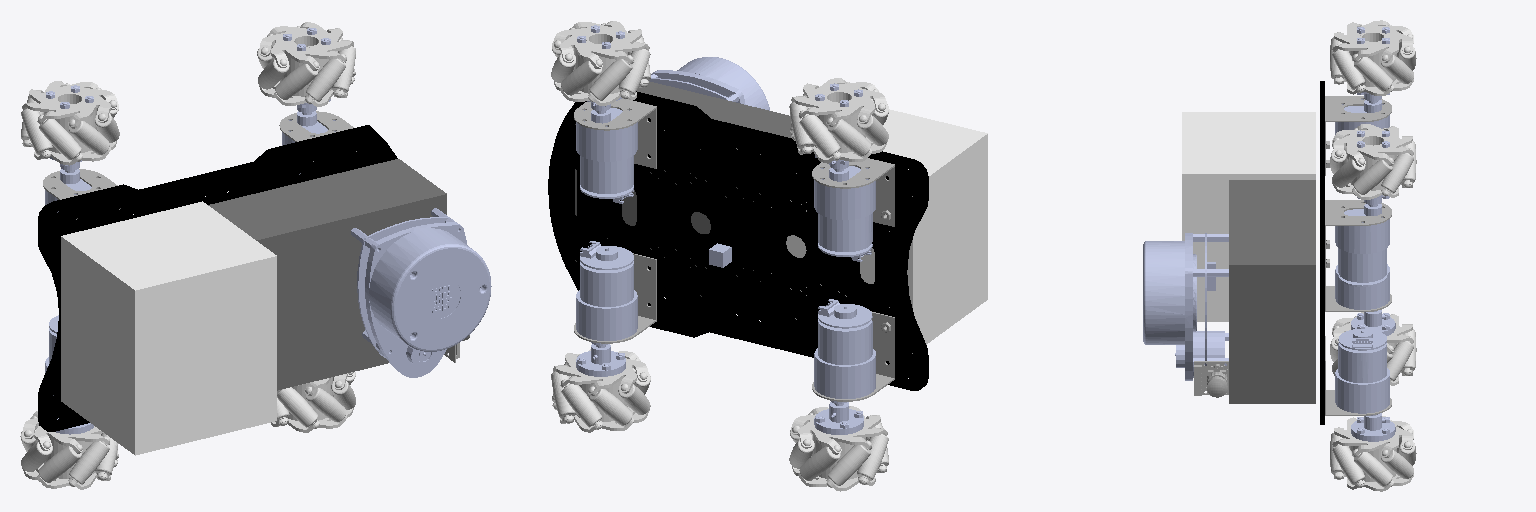
The robot description file, URDF, robot "mkmr_urdf":
<?xml version="1.0" encoding="utf-8"?>
<!-- This URDF was automatically created by SolidWorks to URDF Exporter! Originally created by [author] ([email redacted]) 
     Commit Version: 1.5.1-0-g916b5db  Build Version: 1.5.7152.31018
     For more information, please see http://wiki.ros.org/sw_urdf_exporter -->
<robot
  name="mkmr_urdf">
  <link
    name="base_link">
    <inertial>
      <origin
        xyz="-0.0268483686387245 1.21607692108899E-09 -0.00150000000000019"
        rpy="0 0 0" />
      <mass
        value="0.103562496069832" />
      <inertia
        ixx="0.000191833350350532"
        ixy="1.43353504923239E-11"
        ixz="-3.78740971049399E-18"
        iyy="0.000540911588861398"
        iyz="-2.42123745732002E-16"
        izz="0.000732589595457573" />
    </inertial>
    <visual>
      <origin
        xyz="0 0 0"
        rpy="0 0 0" />
      <geometry>
        <mesh
          filename="package://mkmr_urdf/meshes/base_link.STL" />
      </geometry>
      <material
        name="">
        <color
          rgba="0 0 0 1" />
      </material>
    </visual>
    <collision>
      <origin
        xyz="0 0 0"
        rpy="0 0 0" />
      <geometry>
        <mesh
          filename="package://mkmr_urdf/meshes/base_link.STL" />
      </geometry>
    </collision>
  </link>
  <link
    name="chasis_link">
    <inertial>
      <origin
        xyz="0 4.33680868994202E-18 0"
        rpy="0 0 0" />
      <mass
        value="0.00099698897376" />
      <inertia
        ixx="1.67290127091386E-08"
        ixy="3.02965701463008E-25"
        ixz="-1.09254015306004E-24"
        iyy="1.67290127091386E-08"
        iyz="1.20802494059152E-24"
        izz="1.63055612499839E-08" />
    </inertial>
    <visual>
      <origin
        xyz="0 0 0"
        rpy="0 0 0" />
      <geometry>
        <mesh
          filename="package://mkmr_urdf/meshes/chasis_link.STL" />
      </geometry>
      <material
        name="">
        <color
          rgba="0.792156862745098 0.819607843137255 0.933333333333333 1" />
      </material>
    </visual>
    <collision>
      <origin
        xyz="0 0 0"
        rpy="0 0 0" />
      <geometry>
        <mesh
          filename="package://mkmr_urdf/meshes/chasis_link.STL" />
      </geometry>
    </collision>
  </link>
  <joint
    name="chasis_joint"
    type="fixed">
    <origin
      xyz="-0.032984000000001 0.0355 0"
      rpy="1.5707963267949 0 0" />
    <parent
      link="base_link" />
    <child
      link="chasis_link" />
    <axis
      xyz="0 0 0" />
  </joint>
  <link
    name="front_left_wheel">
    <inertial>
      <origin
        xyz="2.20994875353708E-06 0.0137458677668464 1.25513774644481E-07"
        rpy="0 0 0" />
      <mass
        value="0.0476116186505196" />
      <inertia
        ixx="5.15038604464735E-06"
        ixy="-1.76170105615123E-11"
        ixz="-2.4535690082023E-20"
        iyy="6.47263266606936E-06"
        iyz="2.97339522986395E-13"
        izz="5.15038633208784E-06" />
    </inertial>
    <visual>
      <origin
        xyz="0 0 0"
        rpy="0 0 0" />
      <geometry>
        <mesh
          filename="package://mkmr_urdf/meshes/front_left_wheel.STL" />
      </geometry>
      <material
        name="">
        <color
          rgba="0.901960784313726 0.901960784313726 0.901960784313726 1" />
      </material>
    </visual>
    <collision>
      <origin
        xyz="0 0 0"
        rpy="0 0 0" />
      <geometry>
        <mesh
          filename="package://mkmr_urdf/meshes/front_left_wheel.STL" />
      </geometry>
    </collision>
  </link>
  <joint
    name="front_left_wheel_joint"
    type="continuous">
    <origin
      xyz="0.0824840000000006 0.0945000000000005 0"
      rpy="3.14159265358979 0 -3.14159265358979" />
    <parent
      link="chasis_link" />
    <child
      link="front_left_wheel" />
    <axis
      xyz="0 1 0" />
  </joint>
  <link
    name="back_left_wheel">
    <inertial>
      <origin
        xyz="2.12436712182518E-06 -0.0157458805750022 -1.93716828342239E-08"
        rpy="0 0 0" />
      <mass
        value="0.0476113796200164" />
      <inertia
        ixx="5.15036176146399E-06"
        ixy="-1.30467727967778E-12"
        ixz="-9.23224471388305E-20"
        iyy="6.47262631898505E-06"
        iyz="9.76993198685751E-12"
        izz="5.15036425603524E-06" />
    </inertial>
    <visual>
      <origin
        xyz="0 0 0"
        rpy="0 0 0" />
      <geometry>
        <mesh
          filename="package://mkmr_urdf/meshes/back_left_wheel.STL" />
      </geometry>
      <material
        name="">
        <color
          rgba="0.901960784313726 0.901960784313726 0.901960784313726 1" />
      </material>
    </visual>
    <collision>
      <origin
        xyz="0 0 0"
        rpy="0 0 0" />
      <geometry>
        <mesh
          filename="package://mkmr_urdf/meshes/back_left_wheel.STL" />
      </geometry>
    </collision>
  </link>
  <joint
    name="back_left_wheel_joint"
    type="continuous">
    <origin
      xyz="-0.0825159999999995 0.0924999999999993 0"
      rpy="-3.14159265358979 0 0" />
    <parent
      link="chasis_link" />
    <child
      link="back_left_wheel" />
    <axis
      xyz="0 0 0" />
  </joint>
  <link
    name="back_right_wheel">
    <inertial>
      <origin
        xyz="2.20994875367586E-06 0.0137458677668464 1.25513774637542E-07"
        rpy="0 0 0" />
      <mass
        value="0.0476116186505194" />
      <inertia
        ixx="5.15038604464734E-06"
        ixy="-1.76170105514142E-11"
        ixz="-2.37209903390197E-20"
        iyy="6.47263266606935E-06"
        iyz="2.973395247499E-13"
        izz="5.15038633208782E-06" />
    </inertial>
    <visual>
      <origin
        xyz="0 0 0"
        rpy="0 0 0" />
      <geometry>
        <mesh
          filename="package://mkmr_urdf/meshes/back_right_wheel.STL" />
      </geometry>
      <material
        name="">
        <color
          rgba="0.901960784313726 0.901960784313726 0.901960784313726 1" />
      </material>
    </visual>
    <collision>
      <origin
        xyz="0 0 0"
        rpy="0 0 0" />
      <geometry>
        <mesh
          filename="package://mkmr_urdf/meshes/back_right_wheel.STL" />
      </geometry>
    </collision>
  </link>
  <joint
    name="back_right_wheel_joint"
    type="continuous">
    <origin
      xyz="-0.0825159999999981 -0.0945000000000007 0"
      rpy="-3.14159265358979 0 0" />
    <parent
      link="chasis_link" />
    <child
      link="back_right_wheel" />
    <axis
      xyz="0 0 0" />
  </joint>
  <link
    name="front_right_wheel">
    <inertial>
      <origin
        xyz="2.12436712201253E-06 -0.0157458805750022 -1.93716828411628E-08"
        rpy="0 0 0" />
      <mass
        value="0.0476113796200165" />
      <inertia
        ixx="5.150361761464E-06"
        ixy="-1.30467729016545E-12"
        ixz="-9.18556123580339E-20"
        iyy="6.47262631898505E-06"
        iyz="9.76993198498412E-12"
        izz="5.15036425603525E-06" />
    </inertial>
    <visual>
      <origin
        xyz="0 0 0"
        rpy="0 0 0" />
      <geometry>
        <mesh
          filename="package://mkmr_urdf/meshes/front_right_wheel.STL" />
      </geometry>
      <material
        name="">
        <color
          rgba="0.901960784313726 0.901960784313726 0.901960784313726 1" />
      </material>
    </visual>
    <collision>
      <origin
        xyz="0 0 0"
        rpy="0 0 0" />
      <geometry>
        <mesh
          filename="package://mkmr_urdf/meshes/front_right_wheel.STL" />
      </geometry>
    </collision>
  </link>
  <joint
    name="front_right_wheel_joint"
    type="continuous">
    <origin
      xyz="0.0824840000000019 -0.0924999999999995 0"
      rpy="3.14159265358979 0 -3.14159265358979" />
    <parent
      link="chasis_link" />
    <child
      link="front_right_wheel" />
    <axis
      xyz="0 1 0" />
  </joint>
  <link
    name="fMotorBracket">
    <inertial>
      <origin
        xyz="-0.0610000000000015 -0.0674547790002785 -0.0116887463358963"
        rpy="0 0 0" />
      <mass
        value="0.012334653543211" />
      <inertia
        ixx="3.51055038644331E-06"
        ixy="-6.12729326621837E-19"
        ixz="8.524624284462E-17"
        iyy="3.95634077909559E-06"
        iyz="1.11448332781975E-19"
        izz="3.62492890882267E-06" />
    </inertial>
    <visual>
      <origin
        xyz="0 0 0"
        rpy="0 0 0" />
      <geometry>
        <mesh
          filename="package://mkmr_urdf/meshes/fMotorBracket.STL" />
      </geometry>
      <material
        name="">
        <color
          rgba="0.752941176470588 0.752941176470588 0.752941176470588 1" />
      </material>
    </visual>
    <collision>
      <origin
        xyz="0 0 0"
        rpy="0 0 0" />
      <geometry>
        <mesh
          filename="package://mkmr_urdf/meshes/fMotorBracket.STL" />
      </geometry>
    </collision>
  </link>
  <joint
    name="fMotorBracket_joint"
    type="fixed">
    <origin
      xyz="0.0345000000000004 0 -0.0609999999999998"
      rpy="1.5707963267949 1.5707963267949 0" />
    <parent
      link="base_link" />
    <child
      link="fMotorBracket" />
    <axis
      xyz="0 0 0" />
  </joint>
  <link
    name="fMotor">
    <inertial>
      <origin
        xyz="0.0012598162449621 0.0824999999999999 -0.079"
        rpy="0 0 0" />
      <mass
        value="0.212405766227002" />
      <inertia
        ixx="5.17259698645822E-05"
        ixy="-5.07691498136368E-23"
        ixz="-7.9467054546941E-20"
        iyy="5.18506671512217E-05"
        iyz="2.71802092193946E-07"
        izz="2.83766813003582E-05" />
    </inertial>
    <visual>
      <origin
        xyz="0 0 0"
        rpy="0 0 0" />
      <geometry>
        <mesh
          filename="package://mkmr_urdf/meshes/fMotor.STL" />
      </geometry>
      <material
        name="">
        <color
          rgba="0.792156862745098 0.819607843137255 0.933333333333333 1" />
      </material>
    </visual>
    <collision>
      <origin
        xyz="0 0 0"
        rpy="0 0 0" />
      <geometry>
        <mesh
          filename="package://mkmr_urdf/meshes/fMotor.STL" />
      </geometry>
    </collision>
  </link>
  <joint
    name="fMotor_joint"
    type="fixed">
    <origin
      xyz="0.0179999999999999 -0.15 -0.0285000000000011"
      rpy="0 1.5707963267949 0" />
    <parent
      link="fMotorBracket" />
    <child
      link="fMotor" />
    <axis
      xyz="0 0 0" />
  </joint>
  <link
    name="scan">
    <inertial>
      <origin
        xyz="-0.00748346988333638 0.0106681277328402 9.19261110875341E-05"
        rpy="0 0 0" />
      <mass
        value="1.33076913637071" />
      <inertia
        ixx="0.00061491794045409"
        ixy="0.00015824302591117"
        ixz="8.01984318975029E-07"
        iyy="0.00109815200027136"
        iyz="3.09162986587569E-06"
        izz="0.000960697335617222" />
    </inertial>
    <visual>
      <origin
        xyz="0 0 0"
        rpy="0 0 0" />
      <geometry>
        <mesh
          filename="package://mkmr_urdf/meshes/scan.STL" />
      </geometry>
      <material
        name="">
        <color
          rgba="0.792156862745098 0.819607843137255 0.933333333333333 1" />
      </material>
    </visual>
    <collision>
      <origin
        xyz="0 0 0"
        rpy="0 0 0" />
      <geometry>
        <mesh
          filename="package://mkmr_urdf/meshes/scan.STL" />
      </geometry>
    </collision>
  </link>
  <joint
    name="scan_joint"
    type="fixed">
    <origin
      xyz="0.054864 -0.0860200000000002 -0.000761999999999532"
      rpy="3.14159265358979 1.5707963267949 0" />
    <parent
      link="base_link" />
    <child
      link="scan" />
    <axis
      xyz="0 0 0" />
  </joint>
  <link
    name="camera">
    <inertial>
      <origin
        xyz="-1.97527361641553E-06 0.00684696741341874 -0.00214510583885713"
        rpy="0 0 0" />
      <mass
        value="0.0025100794824479" />
      <inertia
        ixx="9.33506839168769E-08"
        ixy="-4.61883617782687E-12"
        ixz="-3.33058515401231E-11"
        iyy="1.4088644495438E-07"
        iyz="4.33753765925423E-09"
        izz="8.821660212487E-08" />
    </inertial>
    <visual>
      <origin
        xyz="0 0 0"
        rpy="0 0 0" />
      <geometry>
        <mesh
          filename="package://mkmr_urdf/meshes/camera.STL" />
      </geometry>
      <material
        name="">
        <color
          rgba="0.752941176470588 0.752941176470588 0.752941176470588 1" />
      </material>
    </visual>
    <collision>
      <origin
        xyz="0 0 0"
        rpy="0 0 0" />
      <geometry>
        <mesh
          filename="package://mkmr_urdf/meshes/camera.STL" />
      </geometry>
    </collision>
  </link>
  <joint
    name="camera_joint"
    type="fixed">
    <origin
      xyz="0.08282 -0.0734200000000002 -0.036649"
      rpy="1.5707963267949 1.5707963267949 0" />
    <parent
      link="base_link" />
    <child
      link="camera" />
    <axis
      xyz="0 0 0" />
  </joint>
  <link
    name="fPC">
    <inertial>
      <origin
        xyz="-2.40586424375708E-18 0 0"
        rpy="0 0 0" />
      <mass
        value="0.8130163223512" />
      <inertia
        ixx="0.001459055406619"
        ixy="3.99889838699416E-20"
        ixz="-7.176882190073E-20"
        iyy="0.00195188655713094"
        iyz="1.15181796798229E-19"
        izz="0.000955287897127547" />
    </inertial>
    <visual>
      <origin
        xyz="0 0 0"
        rpy="0 0 0" />
      <geometry>
        <mesh
          filename="package://mkmr_urdf/meshes/fPC.STL" />
      </geometry>
      <material
        name="">
        <color
          rgba="0.501960784313725 0.501960784313725 0.501960784313725 1" />
      </material>
    </visual>
    <collision>
      <origin
        xyz="0 0 0"
        rpy="0 0 0" />
      <geometry>
        <mesh
          filename="package://mkmr_urdf/meshes/fPC.STL" />
      </geometry>
    </collision>
  </link>
  <joint
    name="fPC_joint"
    type="fixed">
    <origin
      xyz="0.02413 -0.0322100000000002 0"
      rpy="3.14159265358979 1.5707963267949 0" />
    <parent
      link="base_link" />
    <child
      link="fPC" />
    <axis
      xyz="0 0 0" />
  </joint>
  <link
    name="fDrivers">
    <inertial>
      <origin
        xyz="-0.00662680497475599 0.0454090890784855 -0.00384423999850007"
        rpy="0 0 0" />
      <mass
        value="0.0384827950773915" />
      <inertia
        ixx="9.00094025592023E-06"
        ixy="1.23322080099711E-07"
        ixz="1.33828604274648E-07"
        iyy="2.17073673470651E-05"
        iyz="7.70745836412046E-07"
        izz="2.83840013362901E-05" />
    </inertial>
    <visual>
      <origin
        xyz="0 0 0"
        rpy="0 0 0" />
      <geometry>
        <mesh
          filename="package://mkmr_urdf/meshes/fDrivers.STL" />
      </geometry>
      <material
        name="">
        <color
          rgba="0.792156862745098 0.819607843137255 0.933333333333333 1" />
      </material>
    </visual>
    <collision>
      <origin
        xyz="0 0 0"
        rpy="0 0 0" />
      <geometry>
        <mesh
          filename="package://mkmr_urdf/meshes/fDrivers.STL" />
      </geometry>
    </collision>
  </link>
  <joint
    name="fDrivers_joint"
    type="fixed">
    <origin
      xyz="-0.0399479 0.00465100000000018 0.037726592766333"
      rpy="-1.5707963267949 0 -3.14159265358979" />
    <parent
      link="base_link" />
    <child
      link="fDrivers" />
    <axis
      xyz="0 0 0" />
  </joint>
  <link
    name="fBattery">
    <inertial>
      <origin
        xyz="1.38777878078145E-17 -6.93889390390723E-18 1.57000591617927E-16"
        rpy="0 0 0" />
      <mass
        value="0.97961835817872" />
      <inertia
        ixx="0.0016474672455433"
        ixy="7.03543185374577E-20"
        ixz="-2.37638873019888E-20"
        iyy="0.00178853200699095"
        iyz="-3.34779396182049E-20"
        izz="0.0014610820587575" />
    </inertial>
    <visual>
      <origin
        xyz="0 0 0"
        rpy="0 0 0" />
      <geometry>
        <mesh
          filename="package://mkmr_urdf/meshes/fBattery.STL" />
      </geometry>
      <material
        name="">
        <color
          rgba="1 1 1 1" />
      </material>
    </visual>
    <collision>
      <origin
        xyz="0 0 0"
        rpy="0 0 0" />
      <geometry>
        <mesh
          filename="package://mkmr_urdf/meshes/fBattery.STL" />
      </geometry>
    </collision>
  </link>
  <joint
    name="fBattery_joint"
    type="fixed">
    <origin
      xyz="-0.09476040070881 -0.047958 0"
      rpy="-3.14159265358979 0 0" />
    <parent
      link="base_link" />
    <child
      link="fBattery" />
    <axis
      xyz="0 0 0" />
  </joint>
</robot>

--- What the picture shows (computed from the rendered views, not written in the file) ---
The picture shows the robot from 3 angles, left to right: view 1: azimuth 30°, elevation 25°; view 2: azimuth 150°, elevation 25°; view 3: azimuth 270°, elevation 25°; orthographic projection.
Robot: mkmr_urdf — 13 links, 12 joints (4 continuous, 8 fixed); root link base_link; default pose: every joint at zero.
Links seen in each view (by area): view 1: fBattery, fPC, scan, base_link, front_left_wheel, back_left_wheel, back_right_wheel, front_right_wheel, fMotor, fMotorBracket; view 2: base_link, fMotor, fBattery, fMotorBracket, back_left_wheel, front_left_wheel, back_right_wheel, front_right_wheel, fPC, scan; view 3: fPC, fBattery, fMotor, scan, back_left_wheel, front_left_wheel, front_right_wheel, fMotorBracket, back_right_wheel, base_link, camera.
Link boxes in pixels (x1,y1,x2,y2): fBattery: (61,201,276,455); fPC: (208,159,446,390); scan: (351,208,491,377); base_link: (38,125,397,431); front_left_wheel: (257,22,355,106); back_left_wheel: (21,81,119,165); back_right_wheel: (20,411,118,489); front_right_wheel: (271,372,355,432); fMotor: (45,28,335,434); fMotorBracket: (43,111,356,219); base_link: (548,91,928,390); fMotor: (576,25,875,434); fBattery: (771,109,987,353); fMotorBracket: (574,99,894,401); back_left_wheel: (789,78,888,163); front_left_wheel: (551,21,650,105); back_right_wheel: (789,406,888,491); front_right_wheel: (551,349,650,432); fPC: (575,81,791,296); scan: (649,57,769,110); fPC: (1229,180,1315,403); fBattery: (1182,112,1315,321); fMotor: (1335,27,1395,441); scan: (1143,233,1228,380); back_left_wheel: (1330,20,1416,95); front_left_wheel: (1330,124,1416,199); front_right_wheel: (1330,416,1416,491); fMotorBracket: (1325,96,1391,415); back_right_wheel: (1330,312,1416,385); base_link: (1320,81,1324,424); camera: (1194,361,1228,397).
Size in the robot's own frame: 0.2621 by 0.1838 by 0.254 metres.
12 mesh visuals loaded from 13 distinct referenced files (12 binary STL); not drawn: 1 (reference not matched to a file when rendering).
